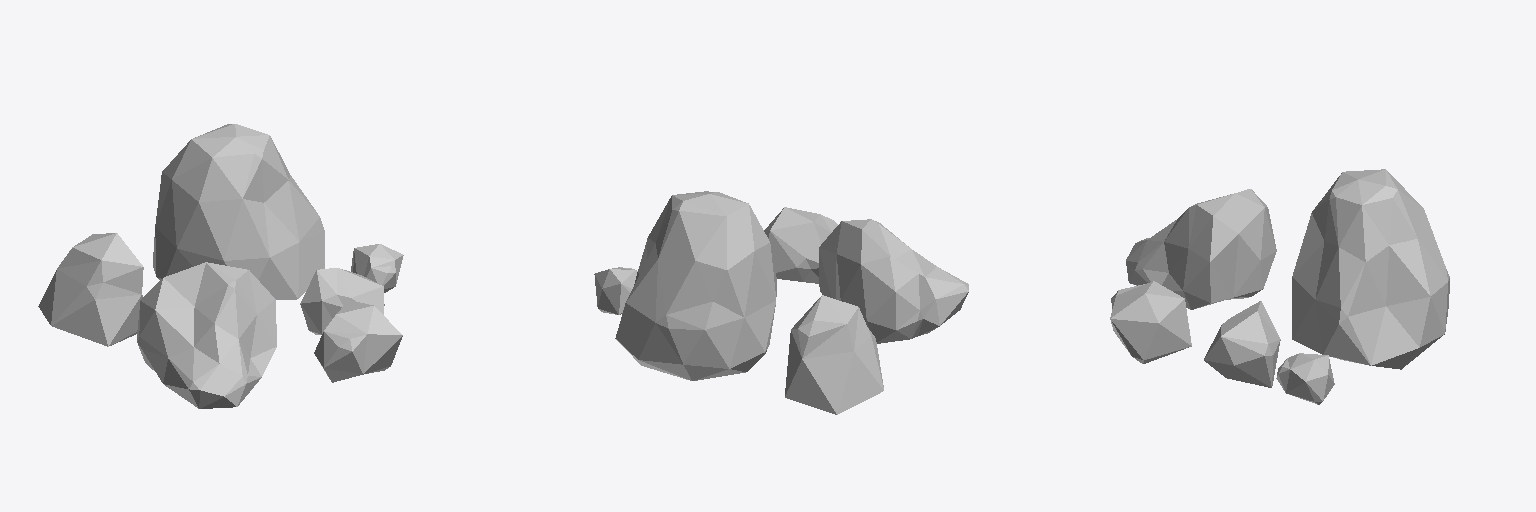
File: Copper_Nuggets.obj
3 renders of one model, left to right at view 1: azimuth 30°, elevation 25°; view 2: azimuth 150°, elevation 25°; view 3: azimuth 270°, elevation 25°, orthographic.
Parts seen in each view (by area): view 1: Copper_Nuggets; view 2: Copper_Nuggets; view 3: Copper_Nuggets.
Boxes of the visible parts, <box> form: Copper_Nuggets: <box>38,124,403,408</box>; Copper_Nuggets: <box>594,191,968,414</box>; Copper_Nuggets: <box>1110,169,1449,404</box>.
Size of the model in its own units: 0.9288 by 0.4749 by 0.8501.